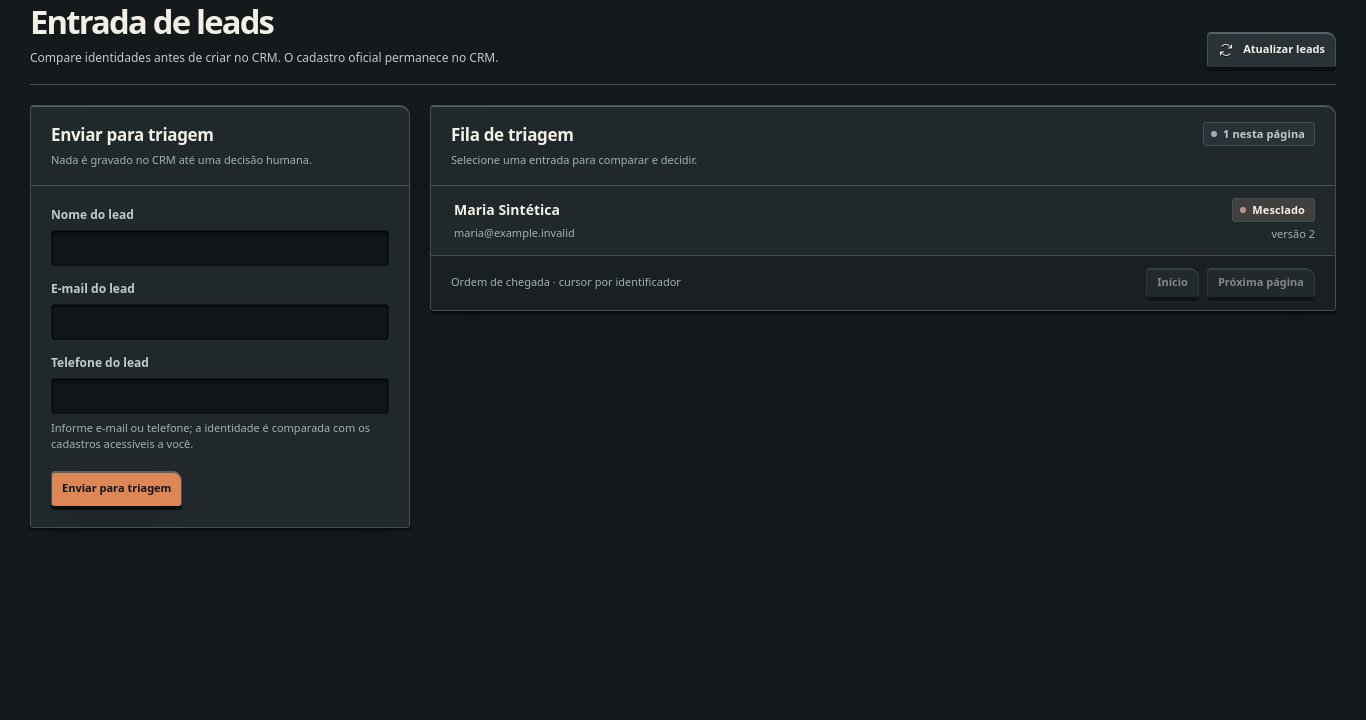
Test: merged leads offer undo and no longer offer create, merge or discard
Click the button "Maria Sintética": click(507, 209) [431,186,1335,255]
(page scrolled)
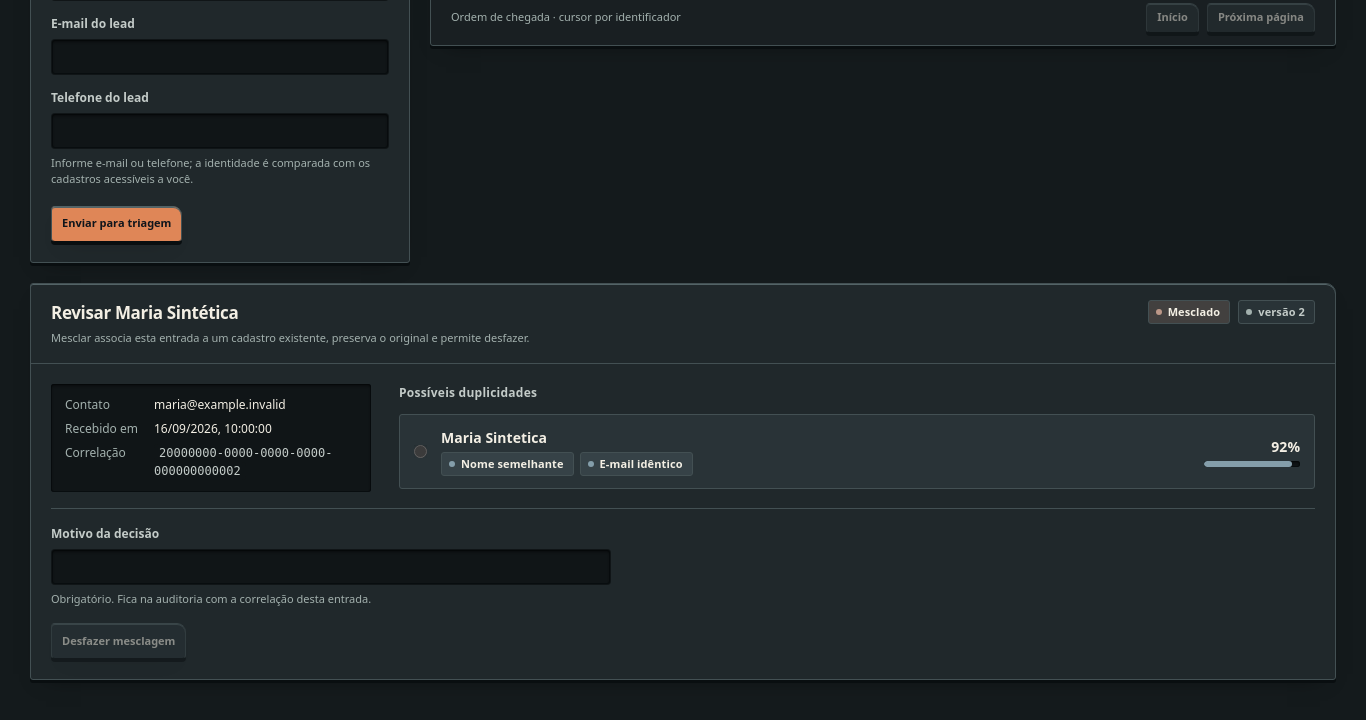
Expected: the text "Mesclado" in the row of "Revisar" is shown, [1168,304,1220,319]
Expected: the button "Desfazer mesclagem" is shown, [51,623,186,659]
Expected: the radio button is disabled, [414,445,427,458]
